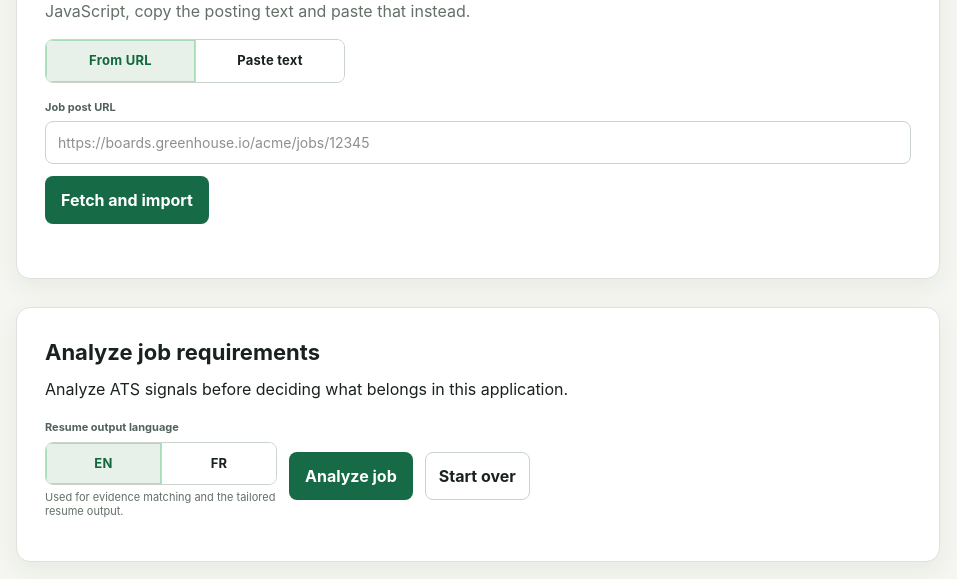
waiting on the analysis layer › shows analysis progress and elapsed time instead of a bare Working button
This screenshot has width=957, height=579.
(page scrolled)
Click the button "Analyze job": (351, 476) [289,452,413,500]
(page scrolled)
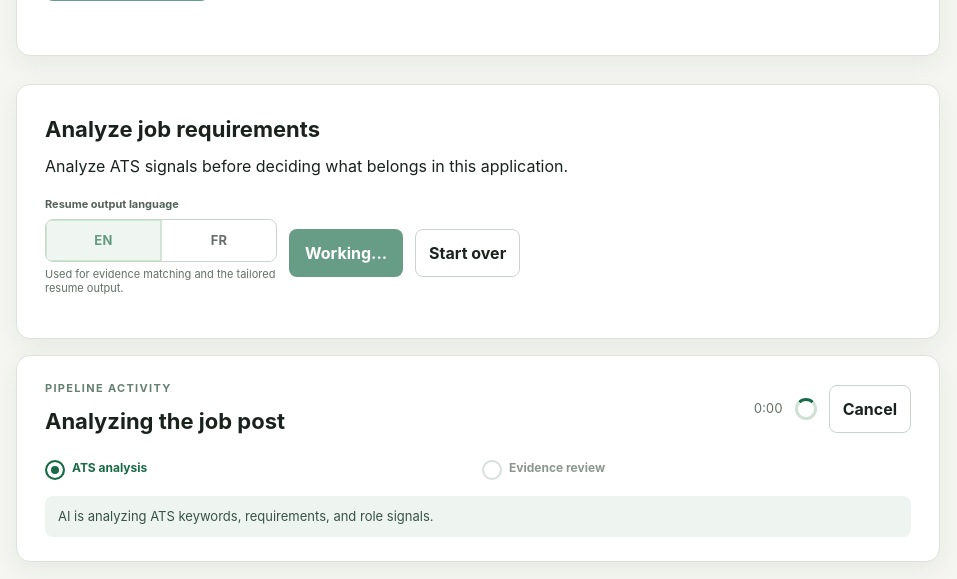
Check: the heading "Analyzing the job post" is shown, box [45,404,285,438]
Check: the text "0:00" is shown, box [754,400,783,416]
Check: the button with test id "cancel-run" is shown, box [829,385,911,433]
